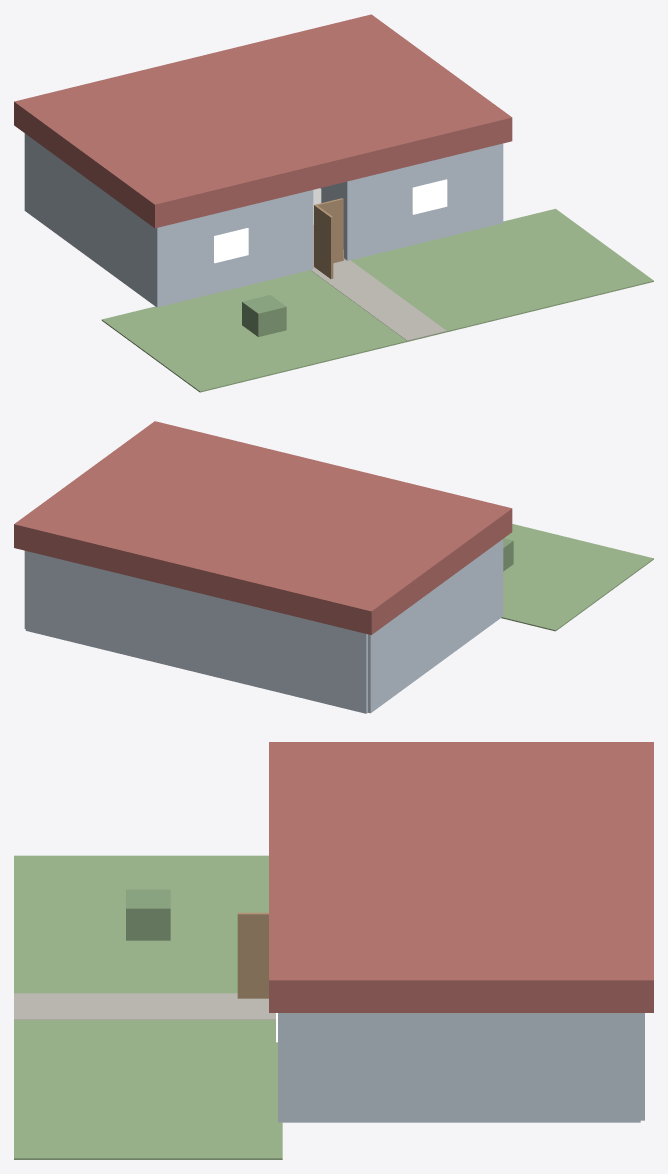
Rendered from otto.glb.
3 views of the same model, one above another, from view 1: azimuth 30°, elevation 25°; view 2: azimuth 150°, elevation 25°; view 3: azimuth 270°, elevation 25° (orthographic). The views are drawn at different scales.
Parts seen in each view (by area): view 1: ext:roof, floor:garden, wall:living_room (×2), wall:kitchen, wall:bedroom, path, time:evening+night (×2), bush, when:open=true, when:open=false; view 2: ext:roof, wall:bedroom (×2), wall:kitchen, floor:garden, wall:living_room; view 3: ext:roof, floor:garden, wall:kitchen (×2), path, when:open=true, bush.
Boxes of the visible parts, x1,y1,x2,y2 form: ext:roof: [14, 14, 512, 228]; floor:garden: [101, 208, 653, 392]; wall:living_room (×2): [73, 169, 313, 307]; wall:kitchen: [344, 143, 503, 260]; wall:bedroom: [24, 133, 73, 246]; path: [311, 259, 446, 340]; time:evening+night (×2): [214, 179, 447, 263]; bush: [242, 295, 286, 336]; when:open=true: [314, 205, 333, 278]; when:open=false: [314, 198, 343, 266]; ext:roof: [14, 421, 512, 634]; wall:bedroom (×2): [167, 585, 419, 713]; wall:kitchen: [25, 551, 167, 665]; floor:garden: [501, 524, 653, 631]; wall:living_room: [420, 541, 499, 676]; ext:roof: [269, 742, 653, 1012]; floor:garden: [14, 855, 282, 1159]; wall:kitchen (×2): [278, 1013, 640, 1122]; path: [14, 993, 275, 1019]; when:open=true: [237, 912, 268, 998]; bush: [126, 889, 170, 940].
Bounding box in the file's own units: 16 × 3.63 × 14.3.
